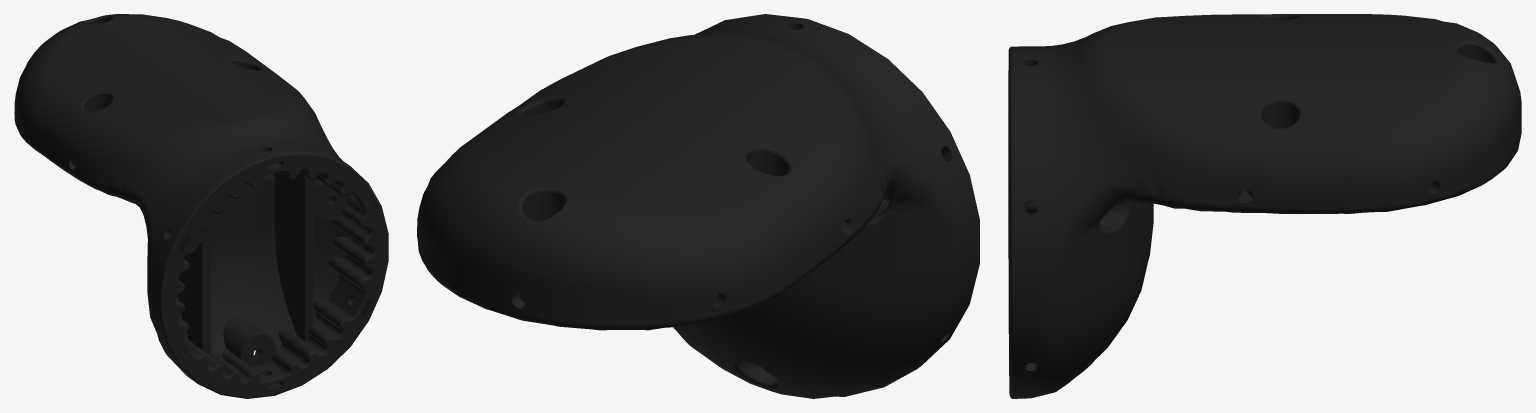
File: Robolink_RebeL_002_0.dae
3 renders of one model, left to right at view 1: azimuth 30°, elevation 25°; view 2: azimuth 150°, elevation 25°; view 3: azimuth 270°, elevation 25°, orthographic. The views are drawn at different scales.
Visible parts, largest first — view 1: Robolink_RebeL_002_0; view 2: Robolink_RebeL_002_0; view 3: Robolink_RebeL_002_0.
Boxes of the visible parts, box(x1,y1,x2,y2) form: Robolink_RebeL_002_0: box(14, 14, 388, 398); Robolink_RebeL_002_0: box(417, 14, 979, 398); Robolink_RebeL_002_0: box(1008, 14, 1521, 398).
Size of the model in its own units: 0.1054 by 0.1528 by 0.1095.
Materials: 1 (1 with a texture image).
